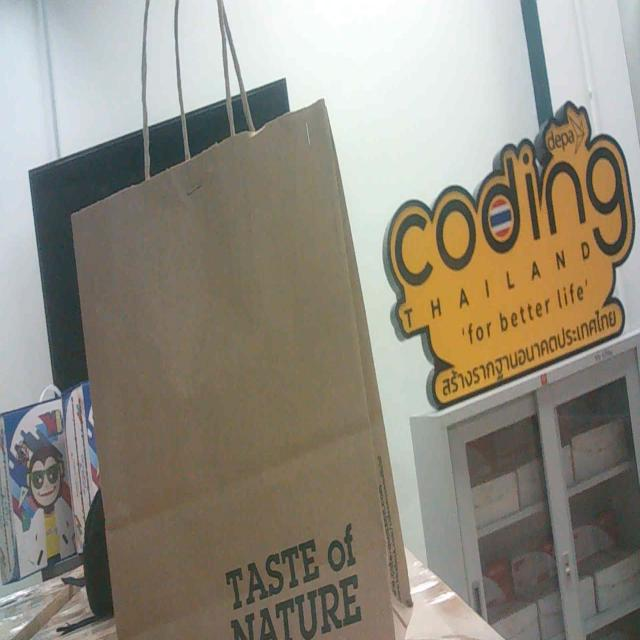bag: (73, 91, 411, 640)
